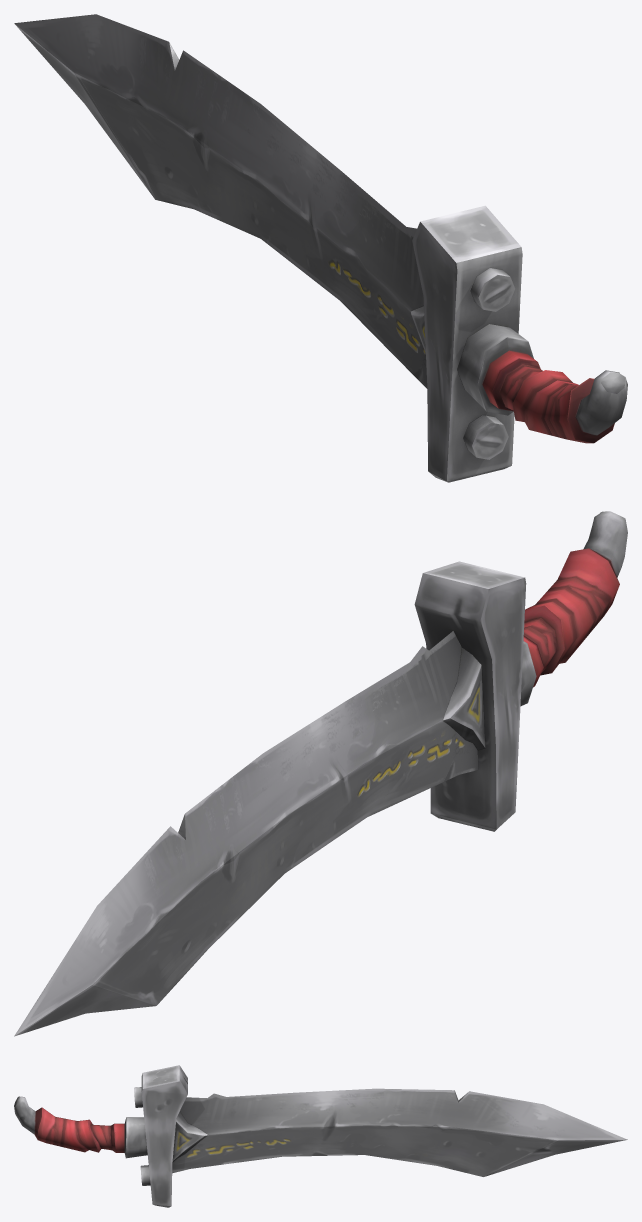
File: sword.gltf
The picture shows the model from 3 angles, top to bottom: view 1: azimuth 30°, elevation 25°; view 2: azimuth 150°, elevation 25°; view 3: azimuth 270°, elevation 25°; orthographic projection. The views are drawn at different scales.
Parts seen in each view (by area): view 1: Object001_Object001_mtl_0; view 2: Object001_Object001_mtl_0; view 3: Object001_Object001_mtl_0.
Boxes of the visible parts, x1,y1,x2,y2 form: Object001_Object001_mtl_0: (14, 14, 627, 482); Object001_Object001_mtl_0: (14, 511, 627, 1036); Object001_Object001_mtl_0: (14, 1065, 627, 1207).
Size of the model in its own units: 3.57 by 13.03 by 56.81.
1 material, 1 textured.
